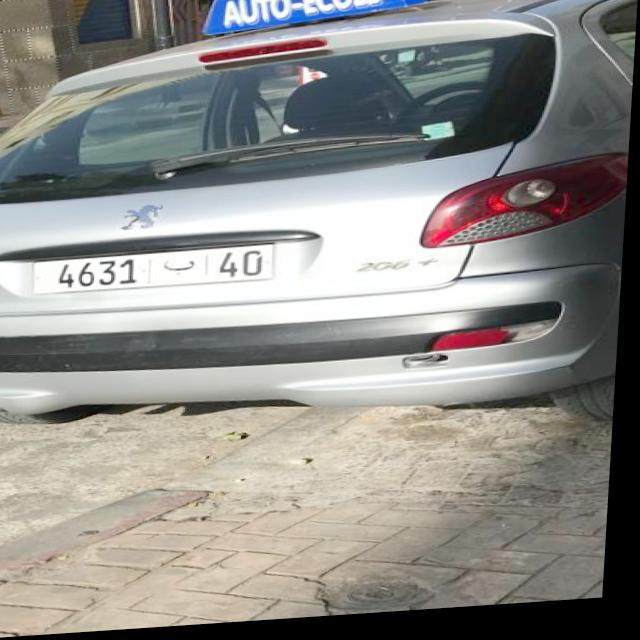License-Plate: (36, 249, 276, 295)
